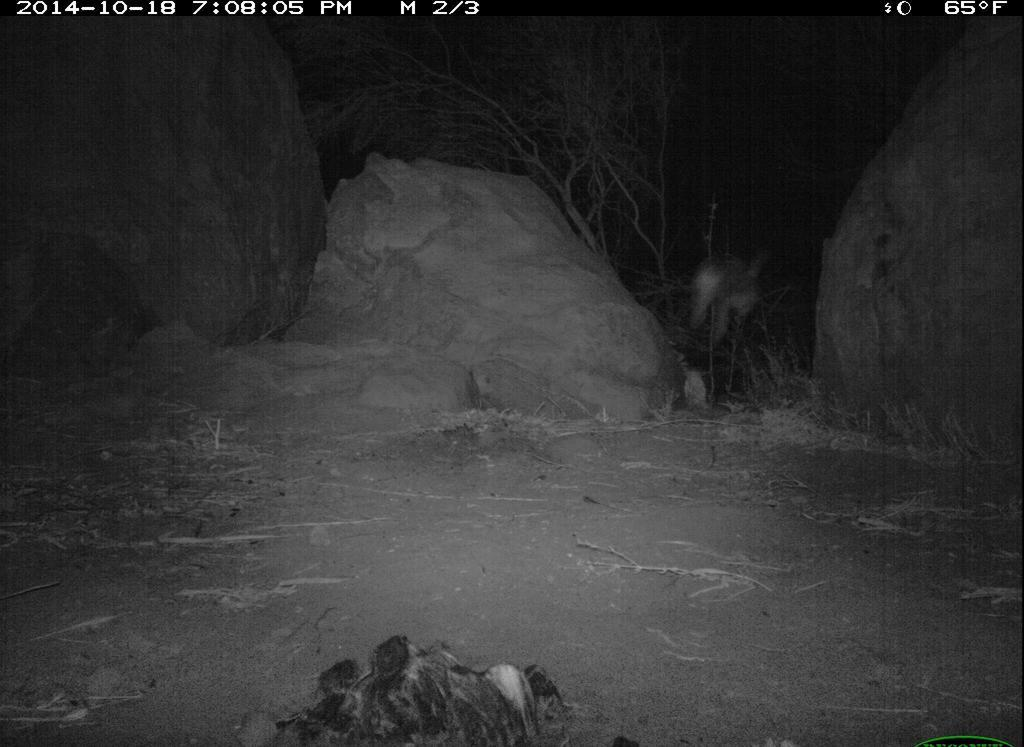rabbit: (682, 244, 778, 347)
